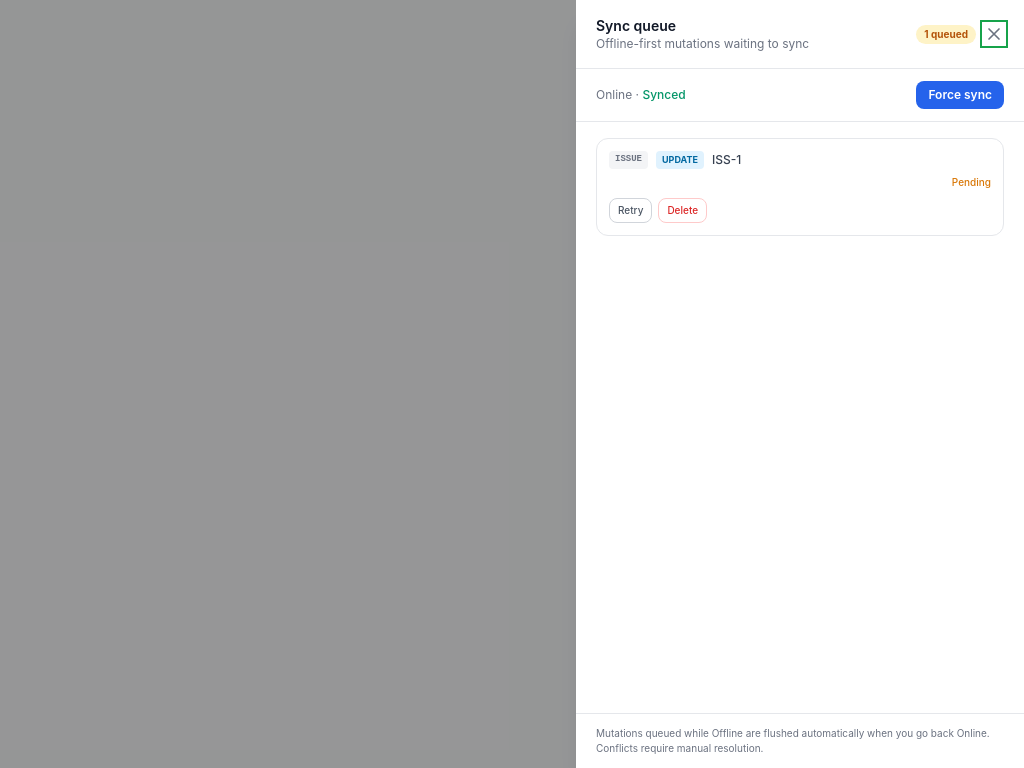
Test case: SyncQueueDrawer › retries a pending entry from the drawer
Click the button "Retry": (631, 210) [609,198,652,222]
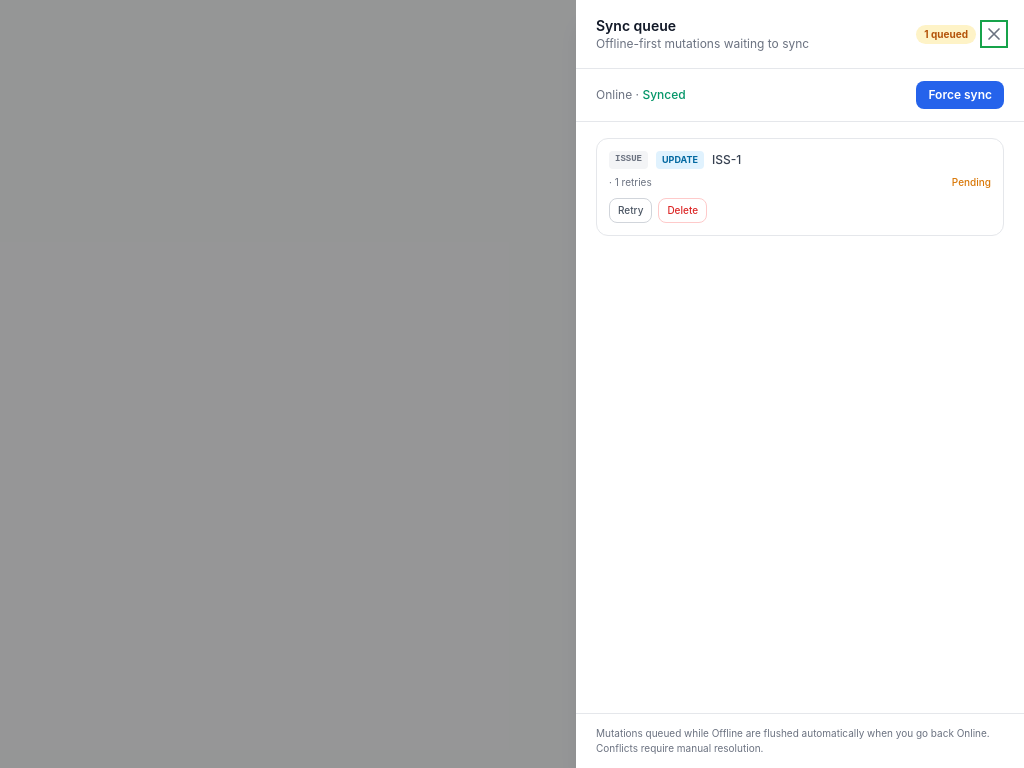
Result: the text "1 retries" is shown at [609,176,652,188]
